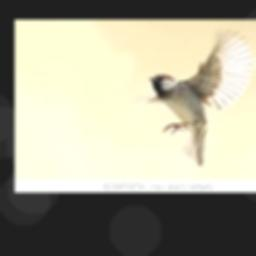Sparrow: (139, 27, 254, 165)
